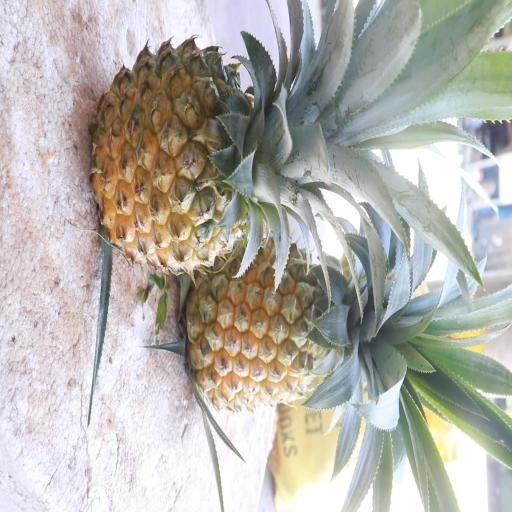Pineapple - v8 v1: (88, 32, 335, 280), (183, 231, 395, 419)
